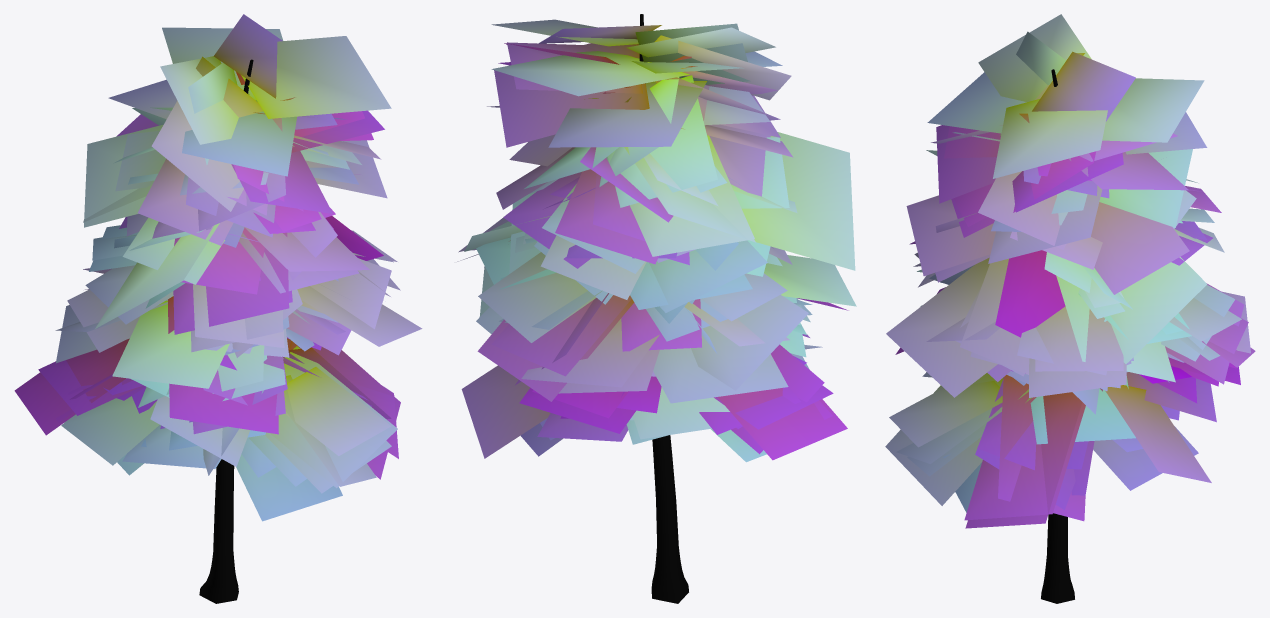
The model's file is tree_cedar_d_lod1.glb.
The picture shows the model from 3 angles, left to right: view 1: azimuth 30°, elevation 25°; view 2: azimuth 150°, elevation 25°; view 3: azimuth 270°, elevation 25°; orthographic projection. The views are drawn at different scales.
Visible parts, largest first — view 1: tree_cedar_d_lod1; view 2: tree_cedar_d_lod1; view 3: tree_cedar_d_lod1.
Part boxes in pixels (<box>): tree_cedar_d_lod1: <box>14,14,422,603</box>; tree_cedar_d_lod1: <box>457,14,856,603</box>; tree_cedar_d_lod1: <box>885,14,1255,603</box>.
Bounding box in the file's own units: 16.41 × 24.74 × 15.03.
